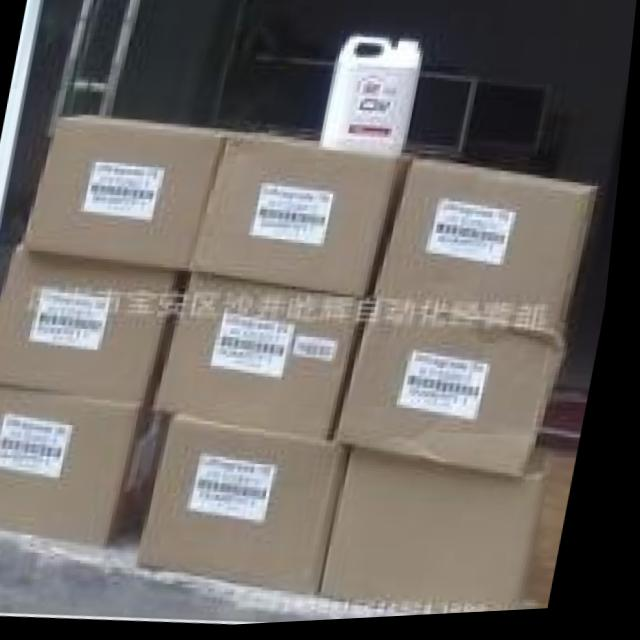box: (195, 130, 466, 298), (342, 300, 578, 480), (333, 442, 556, 620), (378, 157, 601, 334), (149, 415, 361, 599), (29, 113, 266, 271), (161, 276, 372, 444), (0, 248, 188, 407), (0, 387, 181, 550)
